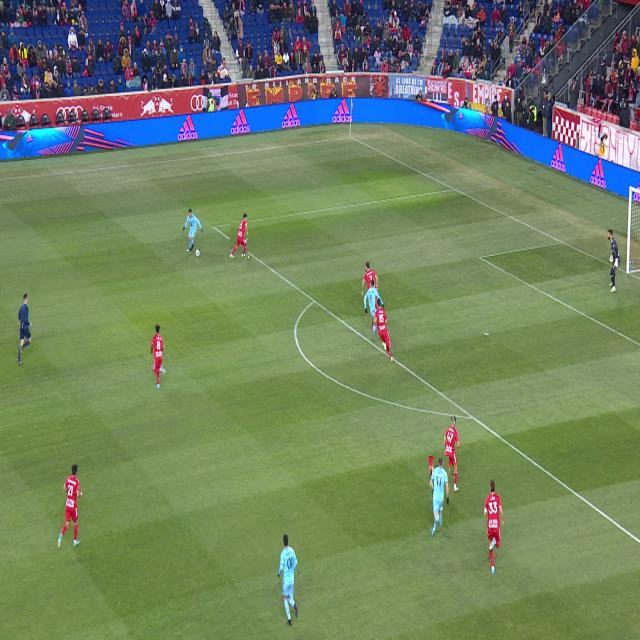football: (196, 250, 200, 257)
goalkeeper: (607, 229, 620, 292)
player: (58, 464, 83, 548), (484, 480, 504, 574), (278, 534, 298, 626), (430, 457, 449, 535), (444, 414, 461, 491), (374, 297, 393, 362), (151, 325, 166, 389), (183, 209, 203, 251), (231, 214, 248, 258), (364, 280, 384, 317), (362, 262, 378, 296), (373, 322, 377, 335), (375, 296, 378, 310)
referee: (17, 294, 32, 365)
